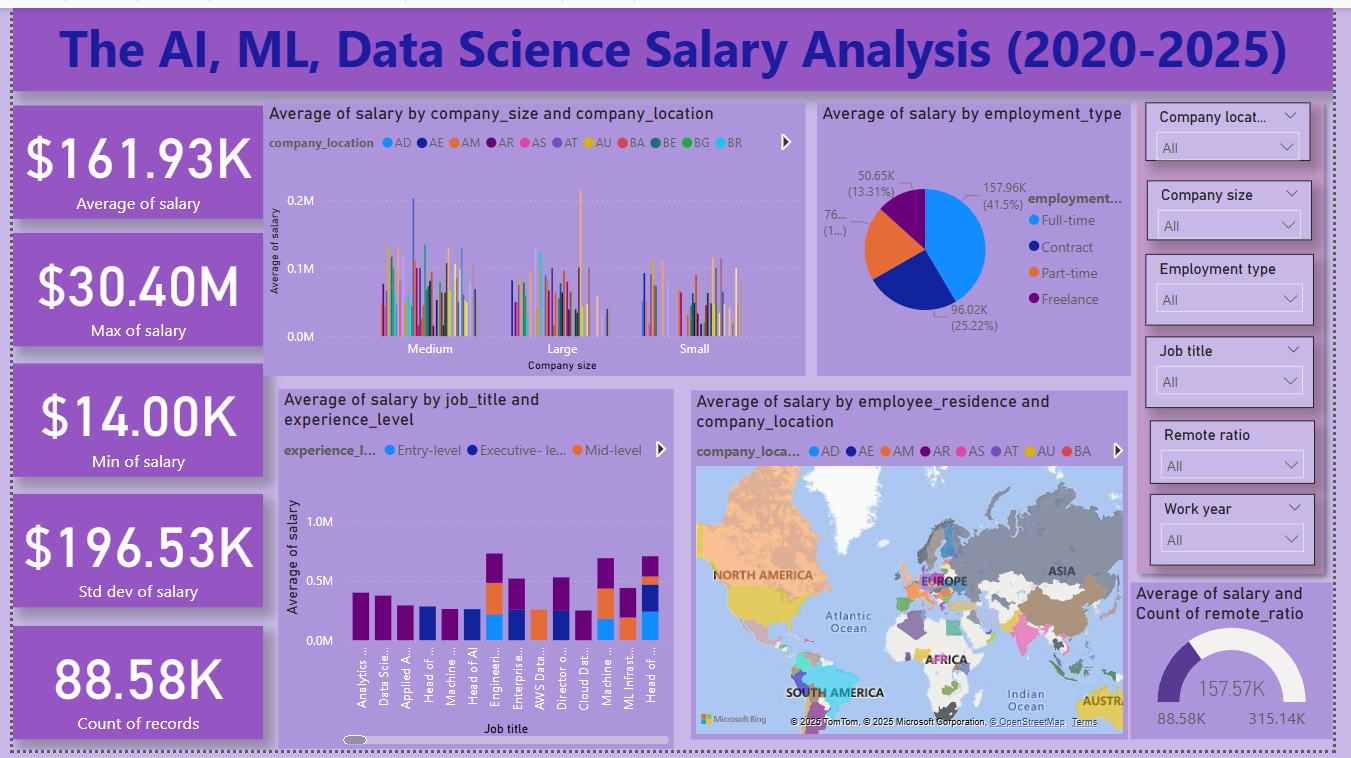

What the dashboard file says about the page in this screenshot:
{"tool":"powerbi","page":{"name":"Page 1","canvas":[1280,720],"ordinal":0},"visuals":[{"type":"textbox","box":[0,0,1280.8,81],"z":0},{"type":"card","fields":{"Values":["Avg(salaries.salary)"]},"box":[0,93.9,242.9,110.1],"z":1000},{"type":"card","fields":{"Values":["Max(salaries.salary)"]},"box":[0,218.6,242.9,110.1],"z":2000},{"type":"card","fields":{"Values":["Min(salaries.salary)"]},"box":[0,344.9,242.9,110.1],"z":3000},{"type":"card","fields":{"Values":["CountNonNull(salaries.Index)"]},"box":[0,599.1,242.9,110.1],"z":4000},{"type":"card","fields":{"Values":["Sum(salaries.salary)"]},"box":[0,471.2,242.9,110.1],"z":5000},{"type":"shape","box":[1081.6,81,199.2,476.1],"z":5001},{"type":"slicer","fields":{"Values":["salaries.company_location"]},"box":[1099.5,92.3,160.3,56.7],"z":5002},{"type":"slicer","fields":{"Values":["salaries.company_size"]},"box":[1101.1,166.8,160.3,58.3],"z":5003},{"type":"slicer","fields":{"Values":["salaries.employment_type"]},"box":[1099.5,238,163.5,69.6],"z":5004},{"type":"slicer","fields":{"Values":["salaries.job_title"]},"box":[1099.5,319,163.5,69.6],"z":5005},{"type":"slicer","fields":{"Values":["salaries.remote_ratio"]},"box":[1102.7,399.9,160.3,61.5],"z":5006},{"type":"slicer","fields":{"Values":["salaries.work_year"]},"box":[1102.7,471.2,160.3,69.6],"z":5007},{"type":"lineClusteredColumnComboChart","fields":{"Y":["Avg(salaries.salary_in_usd)"],"Series":["salaries.company_location"],"Category":["salaries.company_size"]},"box":[242.9,92.3,526.2,265.6],"z":5008},{"type":"pieChart","fields":{"Y":["Avg(salaries.salary_in_usd)"],"Category":["salaries.employment_type"]},"box":[780.5,92.3,304.4,265.6],"z":5009},{"type":"columnChart","fields":{"Category":["salaries.job_title"],"Y":["Avg(salaries.salary_in_usd)"],"Series":["salaries.experience_level"]},"box":[257,370.4,383.6,349.6],"z":5010},{"type":"filledMap","fields":{"Series":["salaries.company_location"],"Category":["salaries.employee_residence"]},"box":[657.4,370.8,424.2,338.4],"z":5011},{"type":"gauge","fields":{"Y":["Avg(salaries.salary_in_usd)"],"MinValue":["CountNonNull(salaries.remote_ratio)"]},"box":[1084.9,557,195.9,152.2],"z":5012}]}

Visuals, with their boxes in screenshot pixels (x1, y1, x2, y2), scaled from the page's 1280x720 canvas onto the 1351x758 screenshot:
textbox: region(0, 0, 1350, 85)
card - Avg(salaries.salary): region(0, 99, 256, 215)
card - Max(salaries.salary): region(0, 230, 256, 346)
card - Min(salaries.salary): region(0, 363, 256, 479)
card - CountNonNull(salaries.Index): region(0, 631, 256, 747)
card - Sum(salaries.salary): region(0, 496, 256, 612)
shape: region(1142, 85, 1350, 587)
slicer - salaries.company_location: region(1160, 97, 1330, 157)
slicer - salaries.company_size: region(1162, 176, 1331, 237)
slicer - salaries.employment_type: region(1160, 251, 1333, 324)
slicer - salaries.job_title: region(1160, 336, 1333, 409)
slicer - salaries.remote_ratio: region(1164, 421, 1333, 486)
slicer - salaries.work_year: region(1164, 496, 1333, 569)
lineClusteredColumnComboChart - Avg(salaries.salary_in_usd) x salaries.company_location: region(256, 97, 812, 377)
pieChart - Avg(salaries.salary_in_usd) x salaries.employment_type: region(824, 97, 1145, 377)
columnChart - salaries.job_title x Avg(salaries.salary_in_usd): region(271, 390, 676, 757)
filledMap - salaries.company_location x salaries.employee_residence: region(694, 390, 1142, 747)
gauge - Avg(salaries.salary_in_usd) x CountNonNull(salaries.remote_ratio): region(1145, 586, 1350, 747)
